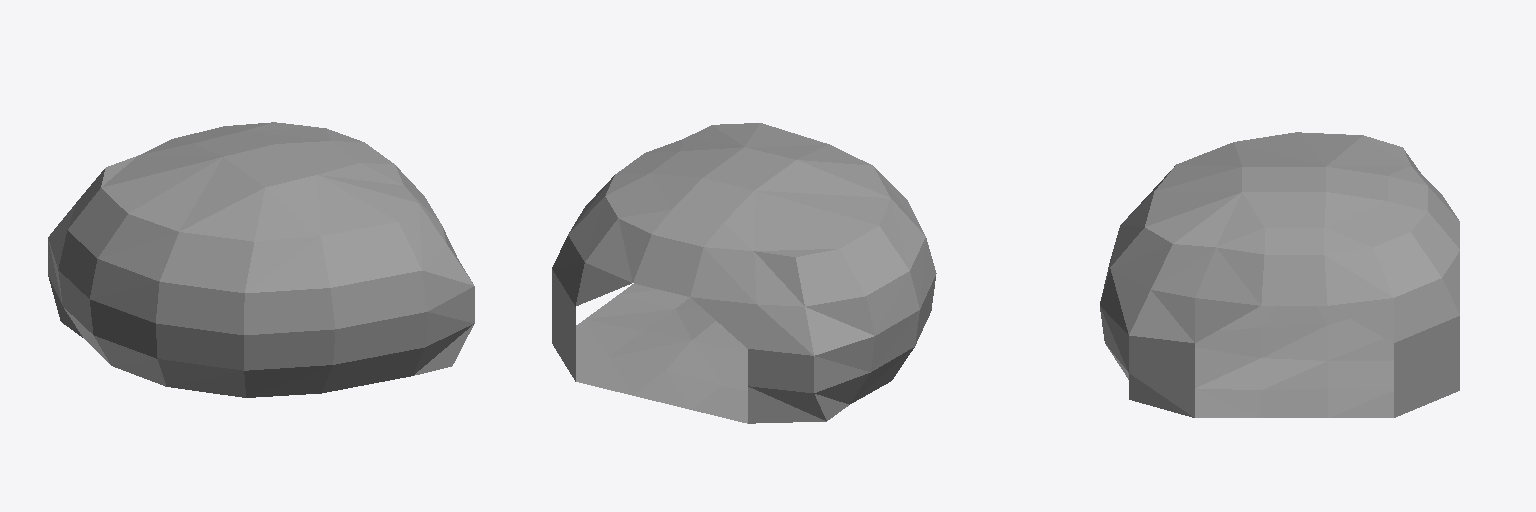
File: Mesh_CavePack_RoomSquareTurn90_lod0.obj
The picture shows the model from 3 angles: view 1: azimuth 30°, elevation 25°; view 2: azimuth 150°, elevation 25°; view 3: azimuth 270°, elevation 25°; orthographic projection.
Visible parts, largest first — view 1: Plane.002_Plane.007; view 2: Plane.002_Plane.007; view 3: Plane.002_Plane.007.
Part boxes in pixels (x1,y1,x2,y2): Plane.002_Plane.007: (48,122,474,397); Plane.002_Plane.007: (552,123,936,423); Plane.002_Plane.007: (1100,132,1459,417).
Bounding box in the file's own units: 17.77 × 9.03 × 17.44.